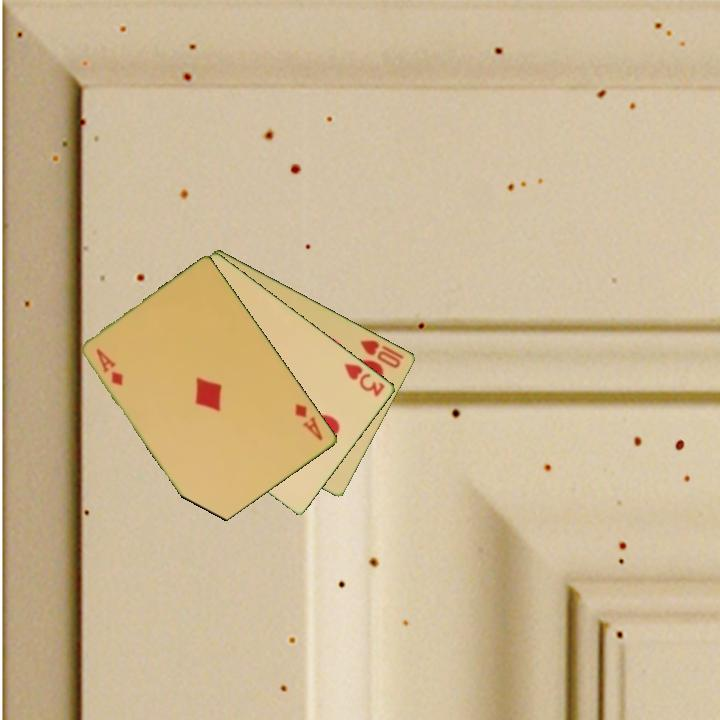10h: (357, 336, 407, 371)
3h: (341, 359, 388, 400)
Ad: (292, 400, 326, 444), (93, 345, 127, 389)
